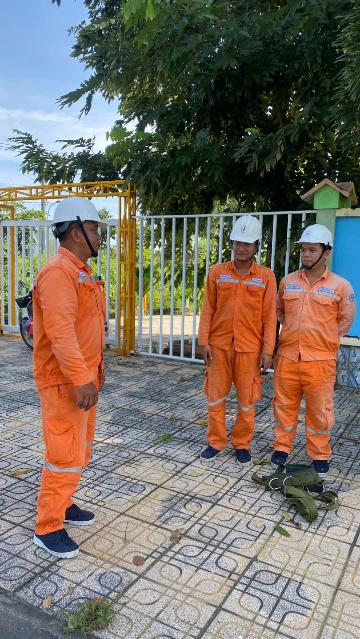helmet: (48, 191, 122, 236), (224, 212, 280, 247), (295, 213, 339, 250)
shoes: (31, 525, 92, 566), (48, 498, 103, 532), (228, 439, 257, 470), (196, 446, 230, 469), (267, 443, 292, 470), (310, 454, 332, 476)
